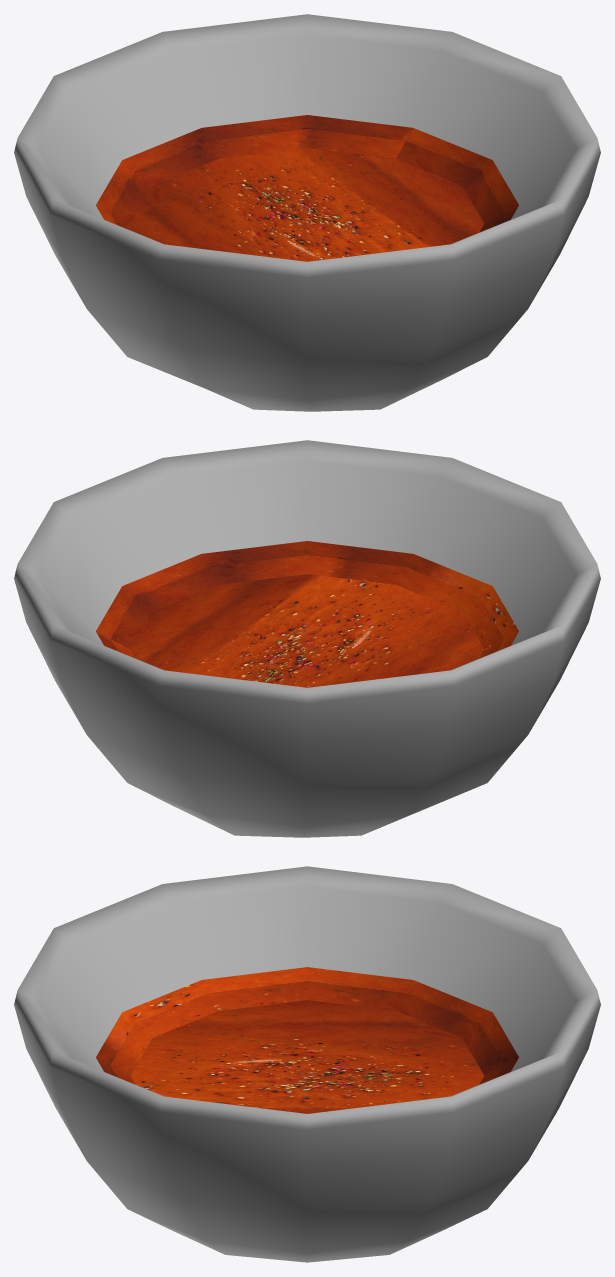
File: tomatosoup.fbx
3 views of the same model, one above another, from view 1: azimuth 30°, elevation 25°; view 2: azimuth 150°, elevation 25°; view 3: azimuth 270°, elevation 25° (orthographic).
Parts seen in each view (by area): view 1: bowl, tomato; view 2: bowl, tomato; view 3: bowl, tomato.
Boxes of the visible parts, x1=… form: bowl: x1=14, y1=14, x2=600, y2=411; tomato: x1=130, y1=148, x2=484, y2=261; bowl: x1=14, y1=440, x2=600, y2=837; tomato: x1=130, y1=574, x2=484, y2=687; bowl: x1=14, y1=866, x2=600, y2=1262; tomato: x1=130, y1=1000, x2=484, y2=1113.
Size of the model in its own units: 34.89 by 15.11 by 34.53.
